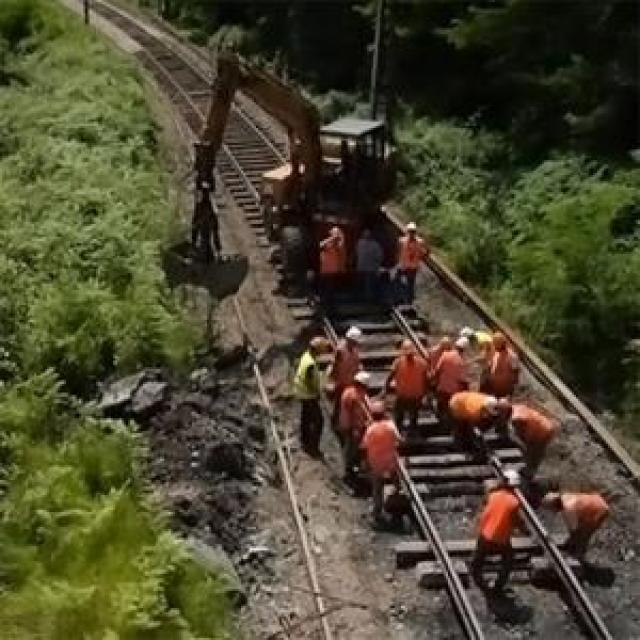danger: (470, 471, 520, 614), (328, 337, 376, 476), (360, 408, 406, 526), (478, 334, 520, 453), (293, 335, 334, 456), (336, 378, 379, 488), (430, 332, 487, 413), (499, 401, 555, 482), (545, 491, 611, 559), (385, 344, 430, 440), (364, 418, 404, 521), (429, 338, 467, 445), (326, 327, 367, 415), (448, 391, 499, 450), (394, 224, 426, 305), (480, 335, 518, 399), (424, 338, 463, 400), (355, 227, 385, 300), (454, 332, 488, 396), (317, 228, 344, 278)
